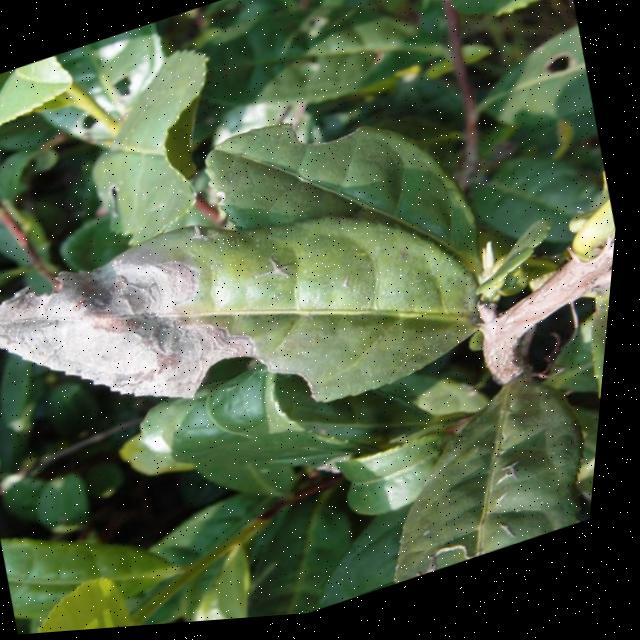Tea cloud leaf blight: (0, 216, 269, 475)
